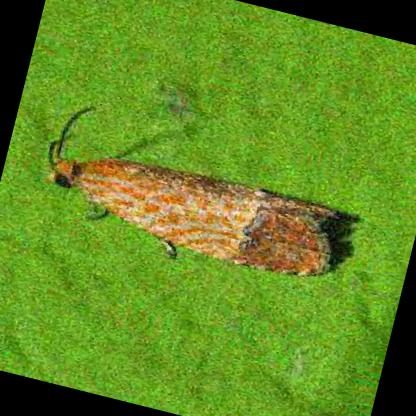Leaf Webber: (37, 100, 368, 277)
